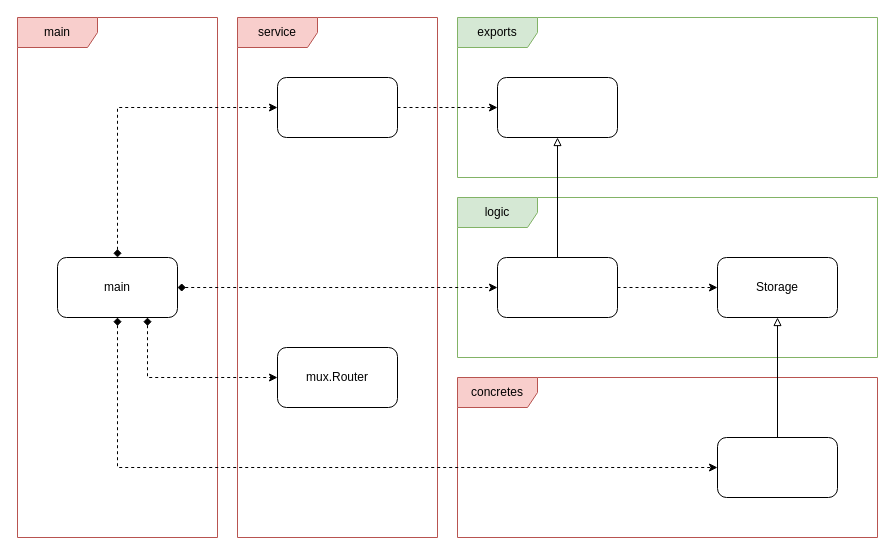
The diagram is 895 pixels wide and 555 high, and some of its shapes have lost their labels. Each missing label, with the centre of its shape:
"API" goes at [557,107].
"HTTPWrapper" goes at [337,107].
"Implementation" goes at [557,287].
"InMemoryStorage" goes at [777,467].
